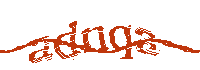a: (135, 26, 159, 60), (28, 36, 52, 62)
d: (54, 19, 80, 60)
n: (81, 26, 107, 55)
q: (110, 25, 135, 61)
